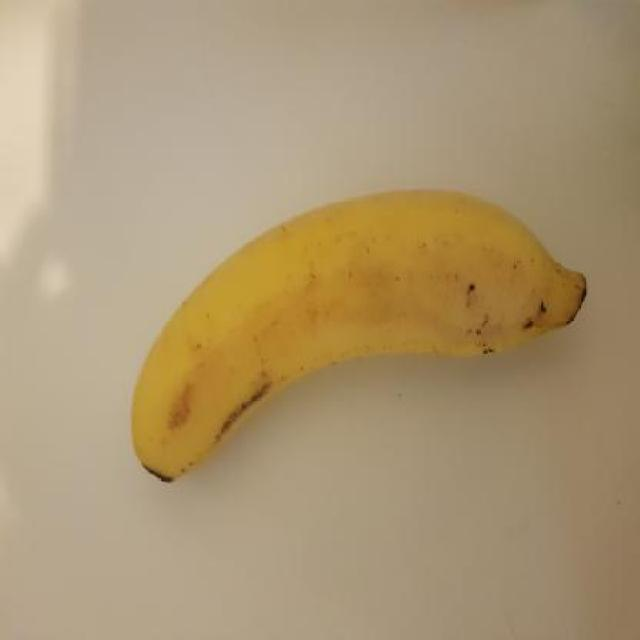Banana: (125, 179, 593, 493)
